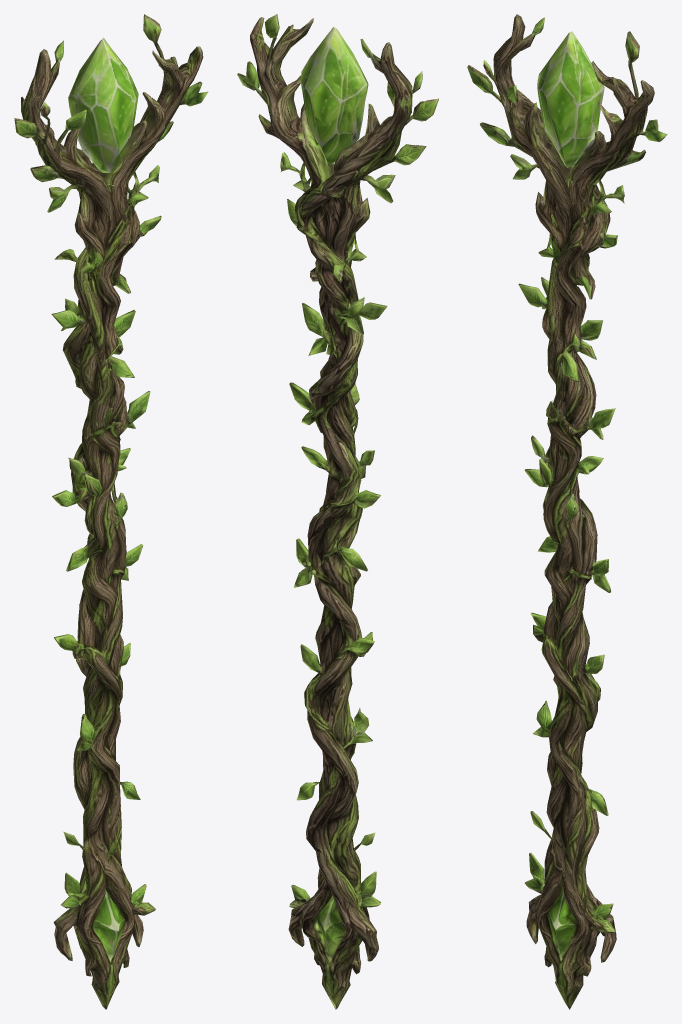
File: staff-forest.glb
3 renders of one model, left to right at view 1: azimuth 30°, elevation 25°; view 2: azimuth 150°, elevation 25°; view 3: azimuth 330°, elevation 25°, orthographic.
Size of the model in its own units: 0.3883 by 1.84 by 0.1424.
Materials: 1 (1 with a texture image).
